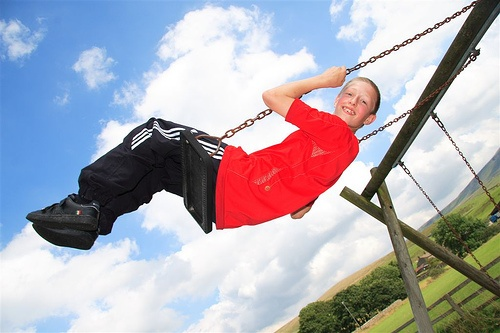head: (334, 76, 383, 126)
person: (19, 60, 384, 254)
